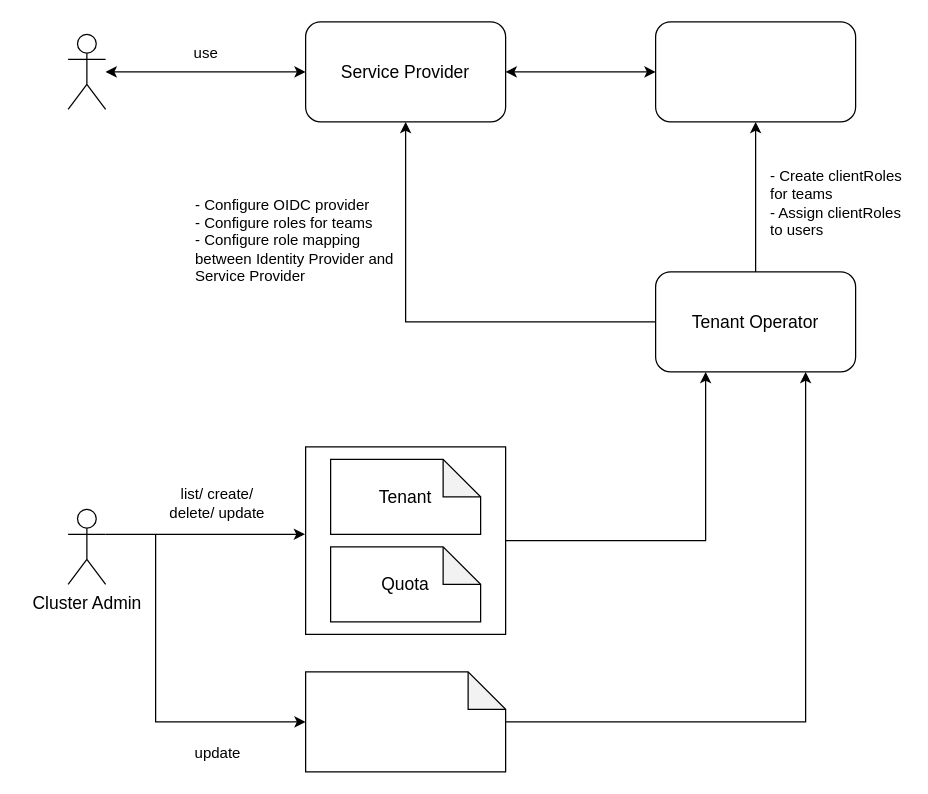
Image size: 928x794. Some labels were removed from this diagram. The centre of each missing label's shape, as x and y in pixels:
Identity Provider: point (755, 71)
Integration Config: point (405, 721)
Tenant Members: point (86, 71)
